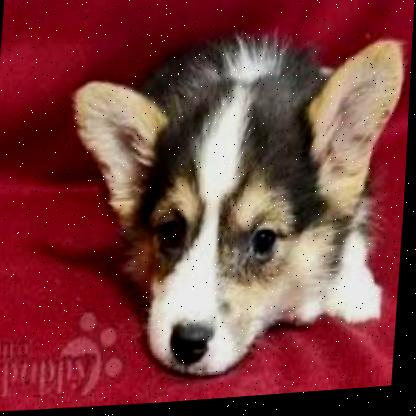dog: (50, 11, 409, 391)
